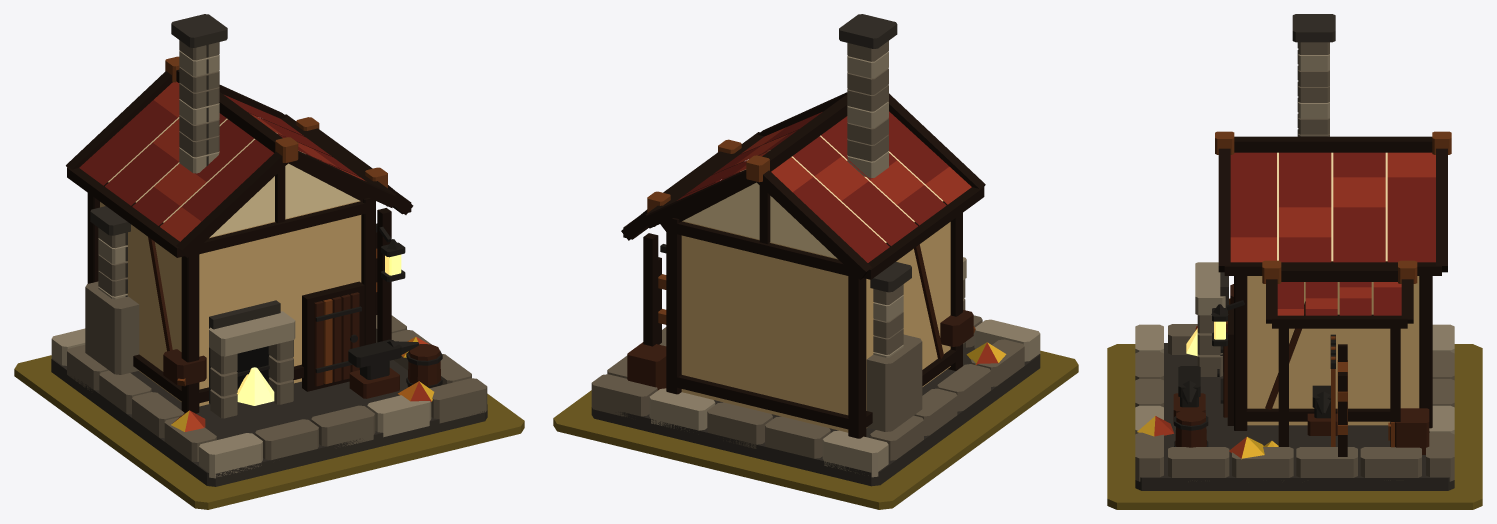
File: forge_t5.glb
3 renders of one model, left to right at view 1: azimuth 30°, elevation 25°; view 2: azimuth 150°, elevation 25°; view 3: azimuth 270°, elevation 25°, orthographic. The views are drawn at different scales.
Parts seen in each view (by area): view 1: MMR | forge | T05 Architecture.001, MMR | forge | Tier 05 Ground.001, MMR | forge | T05 Flame Glow.001, MMR | forge | T05 Autumn Dressing.001; view 2: MMR | forge | T05 Architecture.001, MMR | forge | Tier 05 Ground.001; view 3: MMR | forge | T05 Architecture.001, MMR | forge | Tier 05 Ground.001, MMR | forge | T05 Autumn Dressing.001, MMR | forge | T05 Flame Glow.001.
Part boxes in pixels (left/top/right/bottom): MMR | forge | T05 Architecture.001: left=51, top=14, right=487, bottom=486; MMR | forge | Tier 05 Ground.001: left=14, top=355, right=524, bottom=509; MMR | forge | T05 Flame Glow.001: left=237, top=254, right=401, bottom=405; MMR | forge | T05 Autumn Dressing.001: left=171, top=337, right=434, bottom=431; MMR | forge | T05 Architecture.001: left=591, top=14, right=1040, bottom=486; MMR | forge | Tier 05 Ground.001: left=553, top=350, right=1078, bottom=509; MMR | forge | T05 Architecture.001: left=1135, top=14, right=1454, bottom=490; MMR | forge | Tier 05 Ground.001: left=1107, top=344, right=1482, bottom=509; MMR | forge | T05 Autumn Dressing.001: left=1137, top=326, right=1278, bottom=459; MMR | forge | T05 Flame Glow.001: left=1186, top=321, right=1225, bottom=356.
Size of the model in its own units: 2.35 by 2.62 by 2.35.
2 materials, 1 textured.
